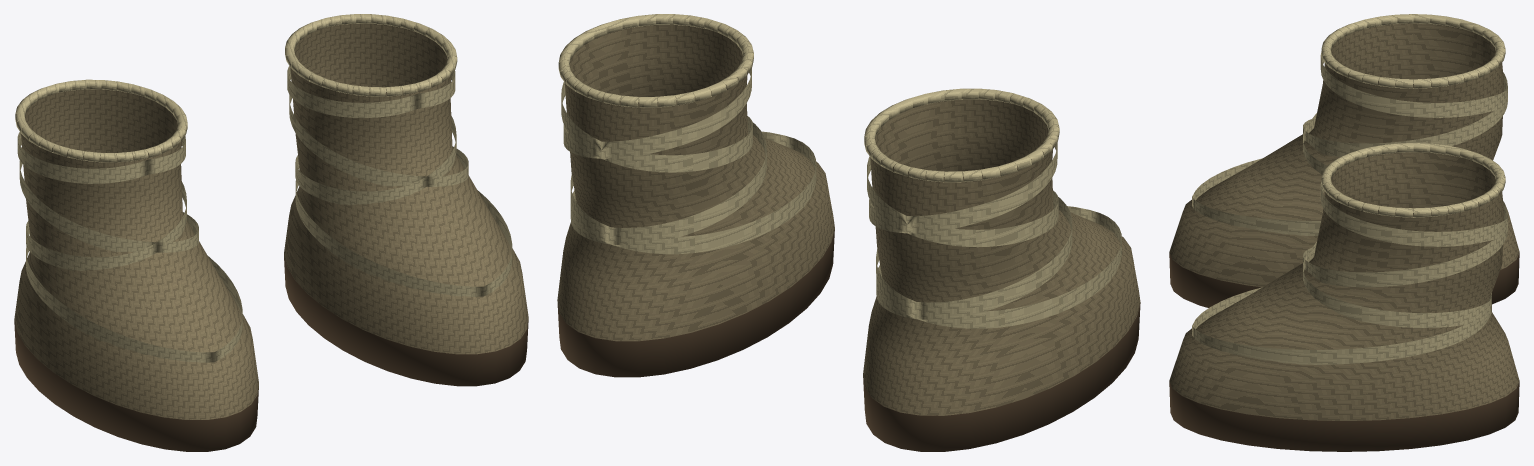
3 renders of one model, left to right at view 1: azimuth 30°, elevation 25°; view 2: azimuth 150°, elevation 25°; view 3: azimuth 270°, elevation 25°, orthographic. The views are drawn at different scales.
Parts seen in each view (by area): view 1: Woven_Footwraps; view 2: Woven_Footwraps; view 3: Woven_Footwraps.
Part boxes in pixels (x1,y1,x2,y2): Woven_Footwraps: [14, 14, 528, 451]; Woven_Footwraps: [557, 14, 1140, 451]; Woven_Footwraps: [1169, 14, 1519, 451].
Size of the model in its own units: 0.48 by 0.254 by 0.34.
3 materials, 2 textured.
